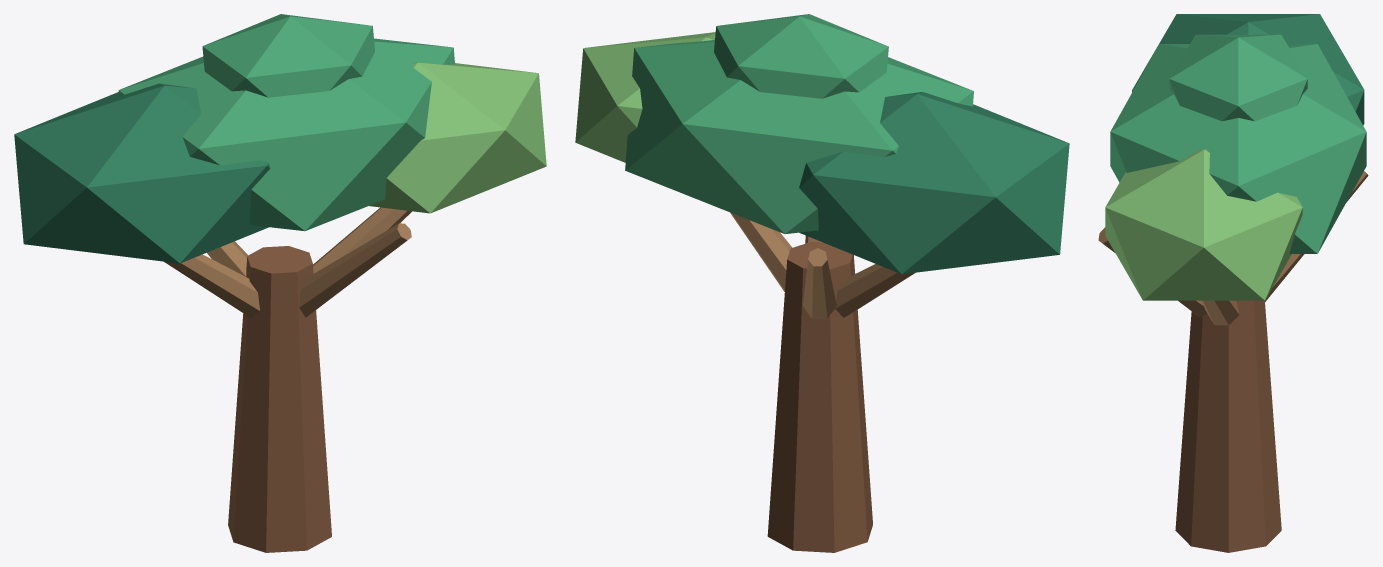
File: arvore-copa-larga-beco.glb
3 views of the same model, side by side, from view 1: azimuth 30°, elevation 25°; view 2: azimuth 150°, elevation 25°; view 3: azimuth 270°, elevation 25° (orthographic). The views are drawn at different scales.
Parts seen in each view (by area): view 1: Copa_Larga_1, Copa_Larga_2, Tronco, Copa_Larga_3, Copa_Larga_Alta, Galho_largo_3, Galho_largo_0, Galho_largo_2, Galho_largo_1; view 2: Copa_Larga_1, Copa_Larga_2, Tronco, Copa_Larga_Alta, Copa_Larga_3, Galho_largo_0, Galho_largo_1, Galho_largo_2; view 3: Copa_Larga_2, Tronco, Copa_Larga_3, Copa_Larga_Alta, Copa_Larga_1, Galho_largo_2, Galho_largo_1, Galho_largo_3.
Boxes of the visible parts, x1,y1,x2,y2 form: Copa_Larga_1: [14, 83, 270, 263]; Copa_Larga_2: [118, 38, 454, 231]; Tronco: [228, 246, 331, 552]; Copa_Larga_3: [369, 62, 546, 213]; Copa_Larga_Alta: [202, 14, 374, 97]; Galho_largo_3: [299, 223, 411, 317]; Galho_largo_0: [164, 254, 259, 317]; Galho_largo_2: [313, 207, 411, 273]; Galho_largo_1: [207, 241, 248, 276]; Copa_Larga_1: [799, 92, 1069, 274]; Copa_Larga_2: [625, 39, 973, 233]; Tronco: [767, 241, 872, 552]; Copa_Larga_Alta: [714, 14, 888, 98]; Copa_Larga_3: [575, 32, 715, 162]; Galho_largo_0: [835, 264, 915, 317]; Galho_largo_1: [803, 248, 836, 319]; Galho_largo_2: [730, 212, 792, 291]; Copa_Larga_2: [1110, 44, 1366, 253]; Tronco: [1175, 300, 1281, 552]; Copa_Larga_3: [1105, 149, 1302, 300]; Copa_Larga_Alta: [1169, 34, 1307, 121]; Copa_Larga_1: [1132, 14, 1364, 125]; Galho_largo_2: [1201, 300, 1239, 325]; Galho_largo_1: [1265, 171, 1368, 301]; Galho_largo_3: [1098, 227, 1207, 318].
Size of the model in its own units: 5.7 by 5.61 by 2.74.
